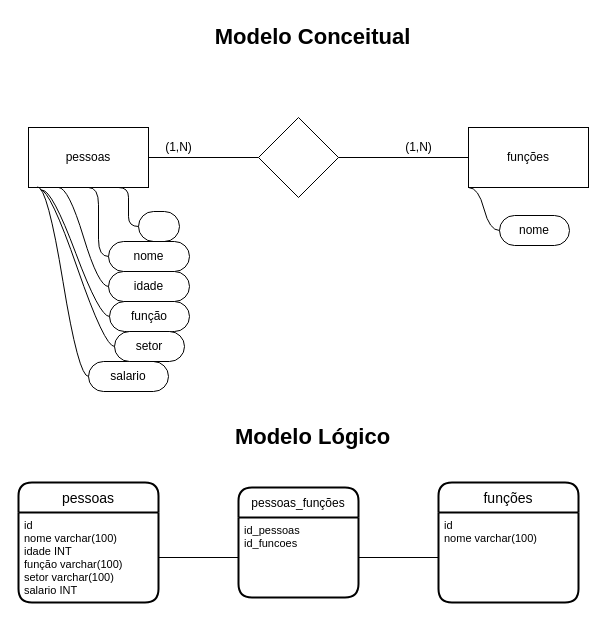
The diagram is 606 pixels wide and 620 high, and some of its shapes have lost their labels. Each missing label, with the centre of its shape:
"id" belongs at point (159, 226).
"tem" belongs at point (298, 157).
